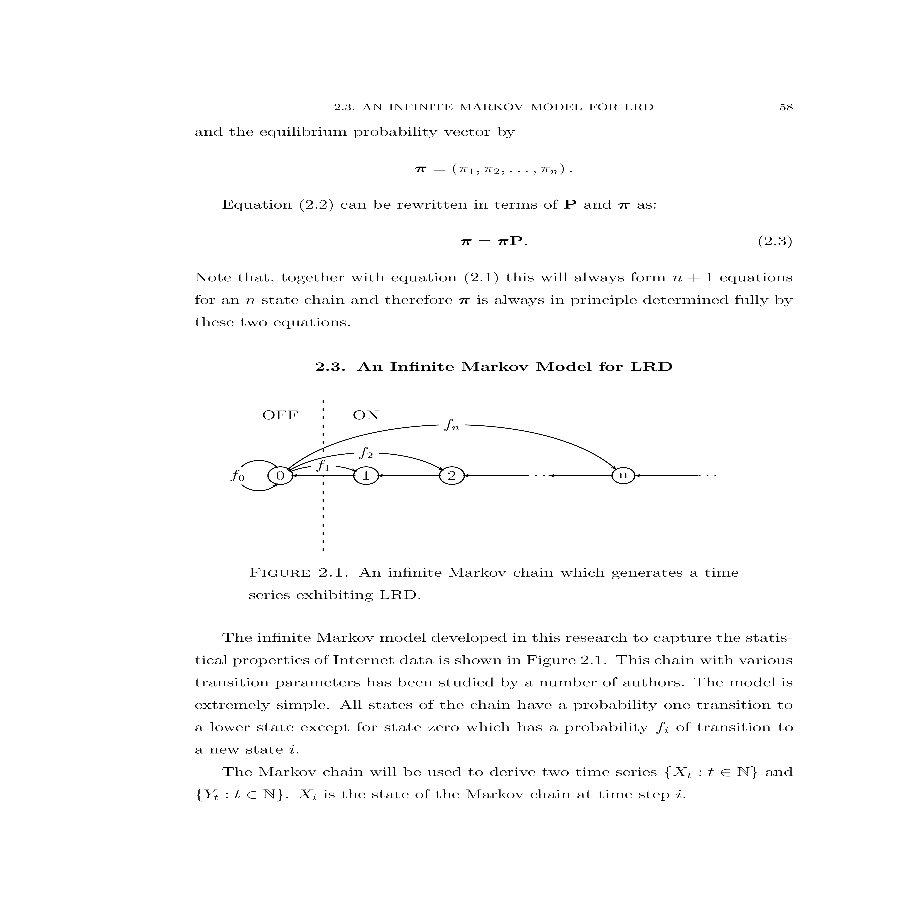eq: (415, 161, 565, 176), (459, 233, 526, 248)
